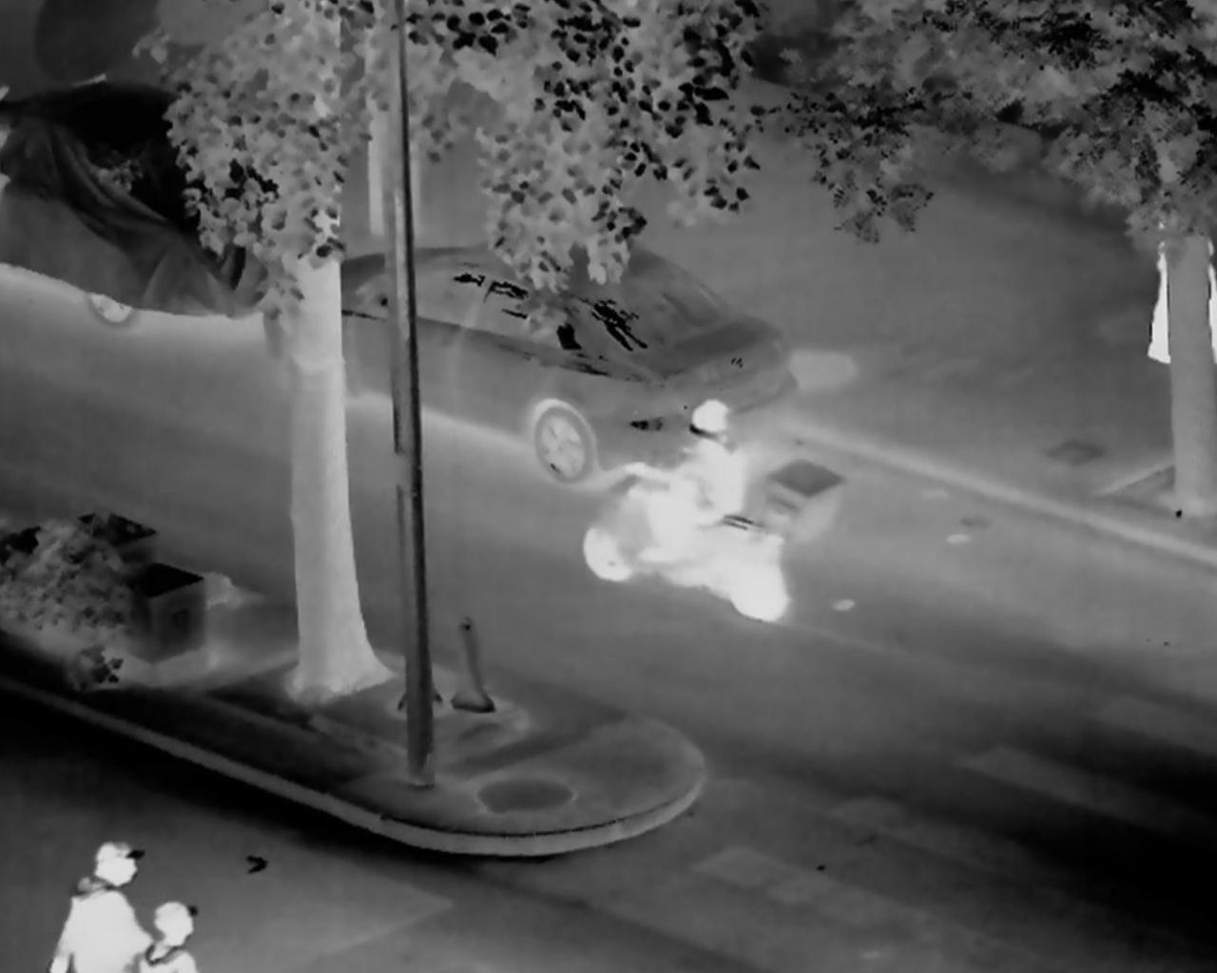person: (622, 383, 748, 576), (51, 835, 150, 968), (139, 898, 197, 973)
